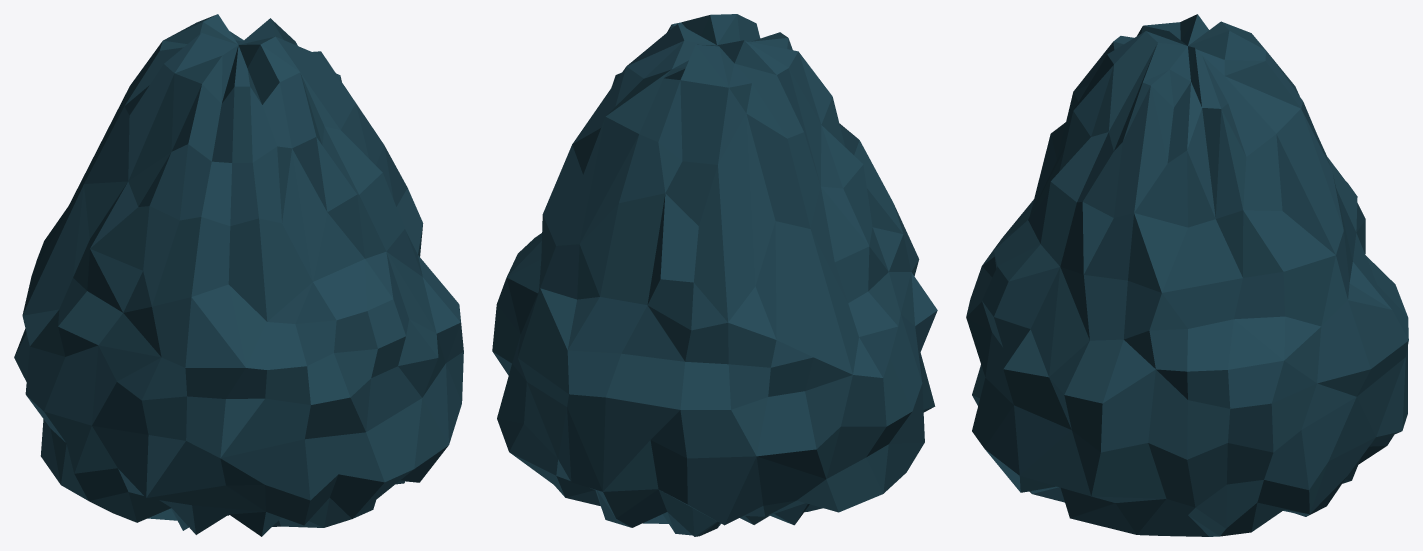
The model's file is Dungeon 1.fbx.
3 views of the same model, side by side, from view 1: azimuth 30°, elevation 25°; view 2: azimuth 150°, elevation 25°; view 3: azimuth 270°, elevation 25° (orthographic).
Parts seen in each view (by area): view 1: Sphere; view 2: Sphere; view 3: Sphere.
Part boxes in pixels (x1,y1,x2,y2): Sphere: (14, 14, 463, 536); Sphere: (492, 14, 937, 536); Sphere: (966, 14, 1408, 536).
Size of the model in its own units: 239 by 275 by 234.
